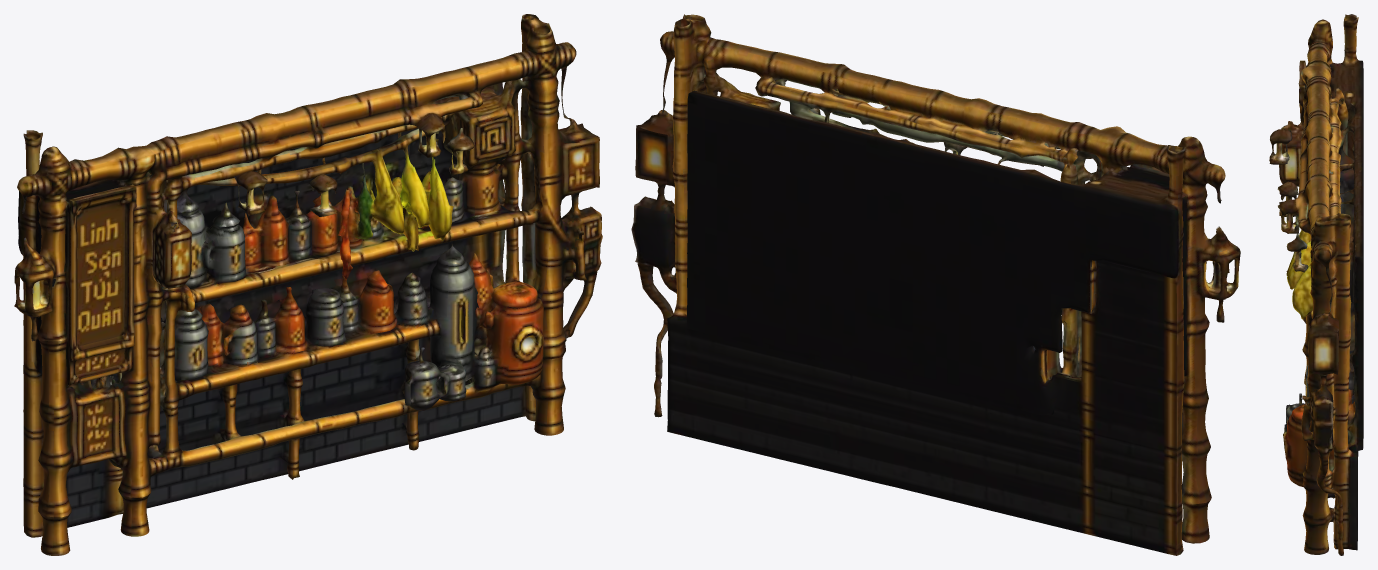
The model's file is LinhSonTavernBackground.glb.
The picture shows the model from 3 angles, left to right: view 1: azimuth 30°, elevation 25°; view 2: azimuth 150°, elevation 25°; view 3: azimuth 270°, elevation 25°; orthographic projection. The views are drawn at different scales.
Bounding box in the file's own units: 1.91 × 1.25 × 0.3205.
Materials: 1 (1 with a texture image).
